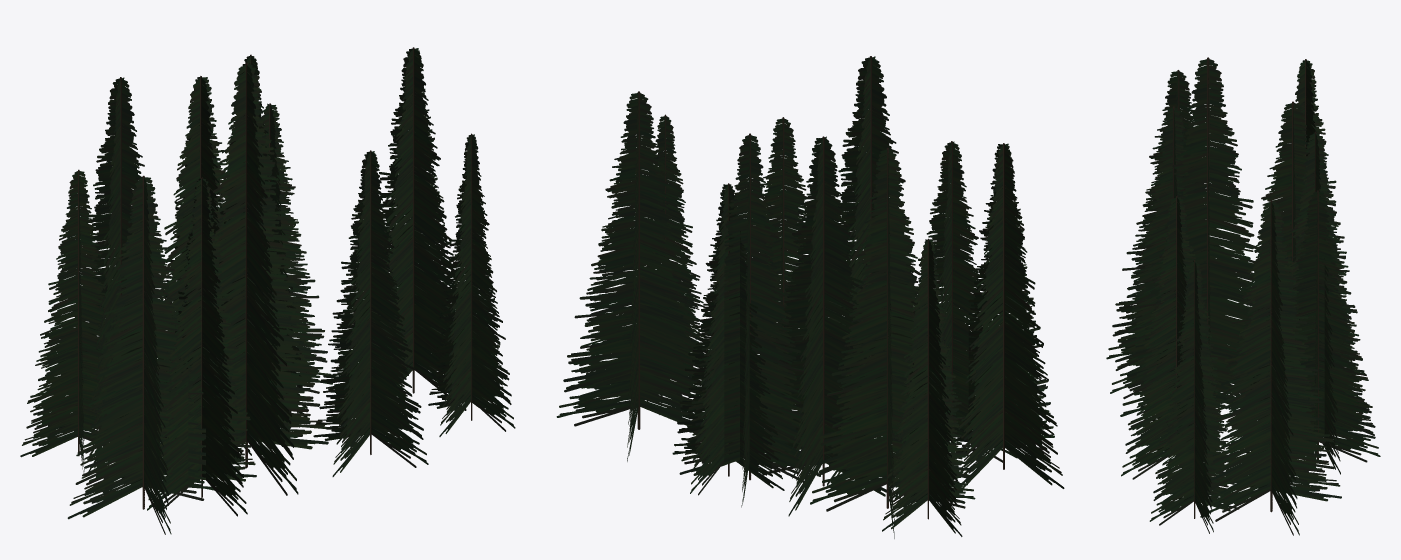
Rendered from S7U_FarConifers_20m_C.fbx.
3 renders of one model, left to right at view 1: azimuth 30°, elevation 25°; view 2: azimuth 150°, elevation 25°; view 3: azimuth 270°, elevation 25°, orthographic. The views are drawn at different scales.
Parts seen in each view (by area): view 1: S7U_FarConifers_20m_C; view 2: S7U_FarConifers_20m_C; view 3: S7U_FarConifers_20m_C.
Part boxes in pixels (x1,y1,x2,y2): S7U_FarConifers_20m_C: (20,47,515,534); S7U_FarConifers_20m_C: (556,56,1064,538); S7U_FarConifers_20m_C: (1106,57,1380,535).
Bounding box in the file's own units: 25.38 × 21.01 × 14.85.
